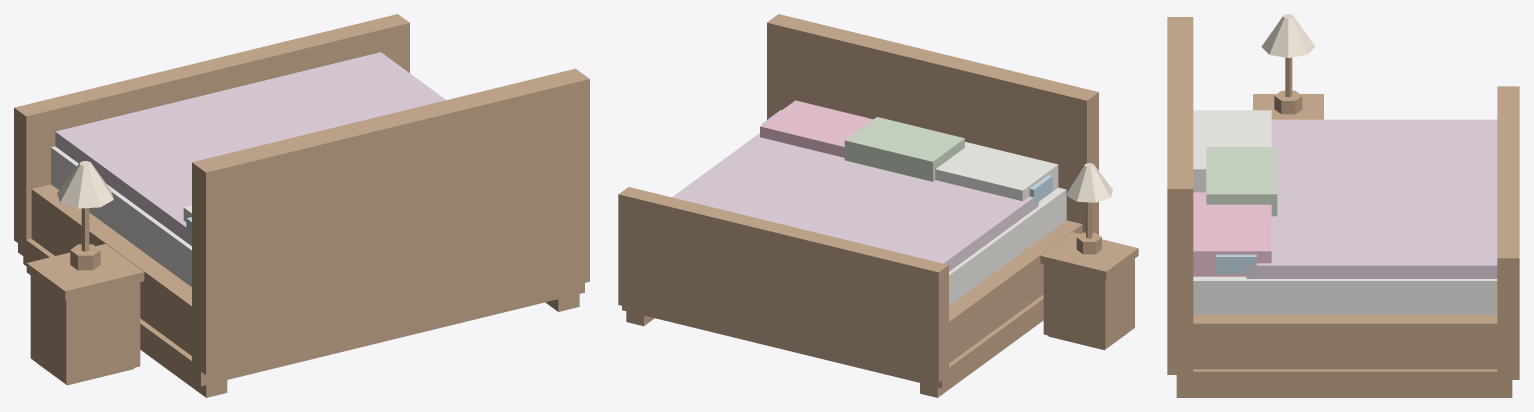
The model's file is bed.glb.
3 views of the same model, side by side, from view 1: azimuth 30°, elevation 25°; view 2: azimuth 150°, elevation 25°; view 3: azimuth 270°, elevation 25° (orthographic). The views are drawn at different scales.
Parts seen in each view (by area): view 1: Bed; view 2: Bed; view 3: Bed.
Part boxes in pixels (bbox=[...]): Bed: bbox=[14, 14, 589, 397]; Bed: bbox=[618, 14, 1138, 397]; Bed: bbox=[1167, 14, 1519, 397].
Bounding box in the file's own units: 2.72 × 1.25 × 1.89.
